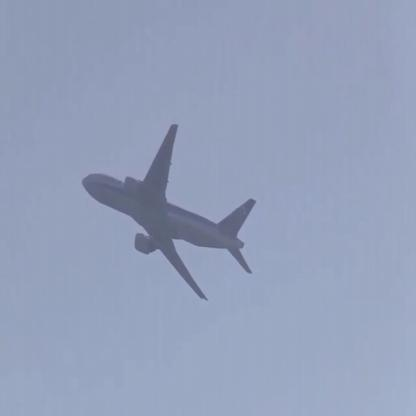CIV_Plane: (82, 122, 264, 302)
